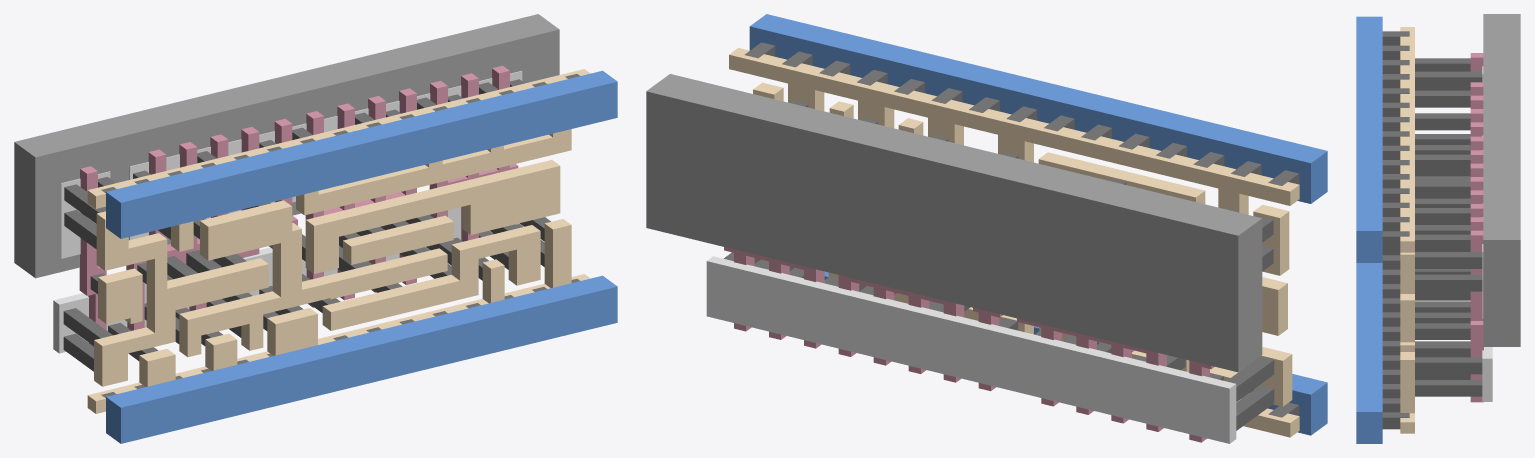
Rendered from sky130_fd_sc_hd__a21boi_4.gds.gltf.
The picture shows the model from 3 angles, left to right: view 1: azimuth 30°, elevation 25°; view 2: azimuth 150°, elevation 25°; view 3: azimuth 270°, elevation 25°; orthographic projection. The views are drawn at different scales.
Visible parts, largest first — view 1: sky130_fd_sc_hd__a21boi_4_li1, sky130_fd_sc_hd__a21boi_4_met1, sky130_fd_sc_hd__a21boi_4_nwell, sky130_fd_sc_hd__a21boi_4_licon, sky130_fd_sc_hd__a21boi_4_poly, sky130_fd_sc_hd__a21boi_4_diff, sky130_fd_sc_hd__a21boi_4_mcon; view 2: sky130_fd_sc_hd__a21boi_4_nwell, sky130_fd_sc_hd__a21boi_4_diff, sky130_fd_sc_hd__a21boi_4_li1, sky130_fd_sc_hd__a21boi_4_met1, sky130_fd_sc_hd__a21boi_4_poly, sky130_fd_sc_hd__a21boi_4_mcon, sky130_fd_sc_hd__a21boi_4_licon; view 3: sky130_fd_sc_hd__a21boi_4_licon, sky130_fd_sc_hd__a21boi_4_nwell, sky130_fd_sc_hd__a21boi_4_met1, sky130_fd_sc_hd__a21boi_4_mcon, sky130_fd_sc_hd__a21boi_4_li1, sky130_fd_sc_hd__a21boi_4_poly, sky130_fd_sc_hd__a21boi_4_diff.
Boxes of the visible parts, x1=… form: sky130_fd_sc_hd__a21boi_4_li1: x1=87, y1=69, x2=590, y2=413; sky130_fd_sc_hd__a21boi_4_met1: x1=106, y1=70, x2=617, y2=443; sky130_fd_sc_hd__a21boi_4_nwell: x1=14, y1=14, x2=559, y2=278; sky130_fd_sc_hd__a21boi_4_licon: x1=63, y1=79, x2=550, y2=371; sky130_fd_sc_hd__a21boi_4_poly: x1=79, y1=65, x2=518, y2=346; sky130_fd_sc_hd__a21boi_4_diff: x1=53, y1=71, x2=522, y2=353; sky130_fd_sc_hd__a21boi_4_mcon: x1=101, y1=74, x2=579, y2=397; sky130_fd_sc_hd__a21boi_4_nwell: x1=646, y1=74, x2=1262, y2=372; sky130_fd_sc_hd__a21boi_4_diff: x1=706, y1=256, x2=1236, y2=443; sky130_fd_sc_hd__a21boi_4_li1: x1=729, y1=48, x2=1299, y2=437; sky130_fd_sc_hd__a21boi_4_met1: x1=749, y1=14, x2=1327, y2=435; sky130_fd_sc_hd__a21boi_4_poly: x1=724, y1=247, x2=1214, y2=442; sky130_fd_sc_hd__a21boi_4_mcon: x1=744, y1=42, x2=1299, y2=417; sky130_fd_sc_hd__a21boi_4_licon: x1=724, y1=101, x2=1274, y2=430; sky130_fd_sc_hd__a21boi_4_licon: x1=1415, y1=58, x2=1482, y2=396; sky130_fd_sc_hd__a21boi_4_nwell: x1=1483, y1=14, x2=1520, y2=346; sky130_fd_sc_hd__a21boi_4_met1: x1=1356, y1=16, x2=1382, y2=443; sky130_fd_sc_hd__a21boi_4_mcon: x1=1382, y1=31, x2=1409, y2=429; sky130_fd_sc_hd__a21boi_4_li1: x1=1400, y1=27, x2=1414, y2=433; sky130_fd_sc_hd__a21boi_4_poly: x1=1470, y1=53, x2=1483, y2=402; sky130_fd_sc_hd__a21boi_4_diff: x1=1482, y1=66, x2=1492, y2=401.
Size of the model in its own units: 7.28 by 3.2 by 2.24.
